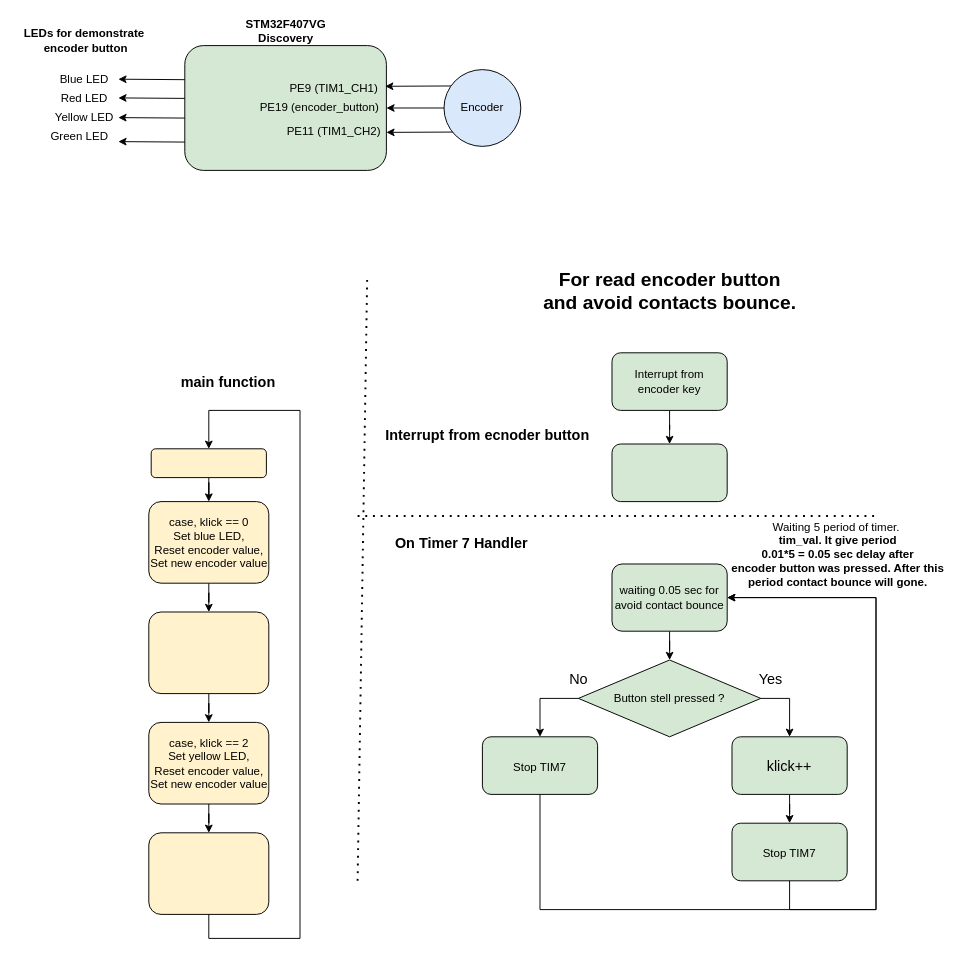
This 969x963 diagram has some shape labels left out. The shapes that lost their labels are listed below. From the top down, each one's centre as x and y in pixels, then its label:
At (208,463): "Switch (klick)".
At (669,472): "Start TIM7 Genetate interrupt 100 Hz".
At (208,652): "case, klick == 1 Set red LED, Reset encoder value, Set new encoder value".
At (208,873): "case, klick == 3 Set green LED, Reset encoder value, Set new encoder value".
